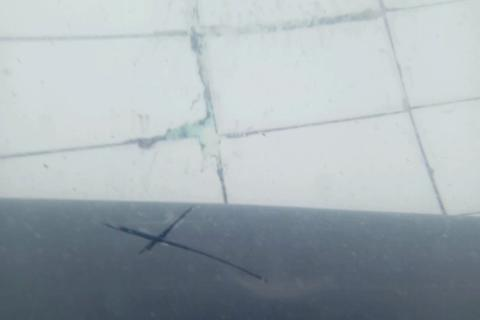keretakan: (100, 203, 269, 287)
